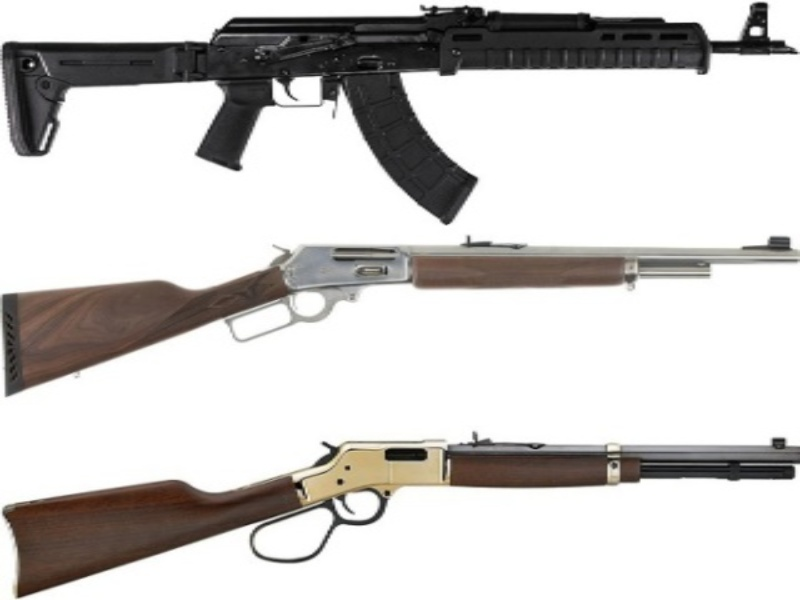weapon: (1, 1, 800, 224), (1, 235, 800, 400), (1, 432, 800, 597)
